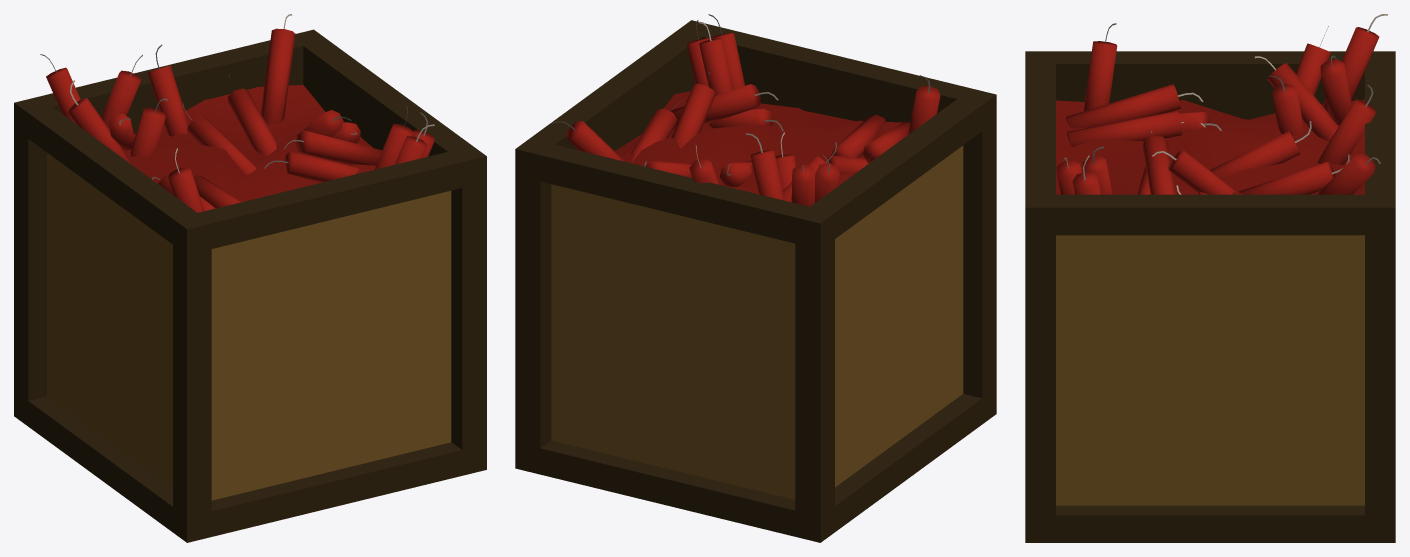
File: CaixaDinamitePrefab.fbx
3 renders of one model, left to right at view 1: azimuth 30°, elevation 25°; view 2: azimuth 150°, elevation 25°; view 3: azimuth 270°, elevation 25°, orthographic. The views are drawn at different scales.
Visible parts, largest first — view 1: Caixa_Dinamite, Dinamite.003, Dinamite.014, Dinamite.020, Dinamite.019, Dinamite.013, Dinamite.004, Dinamite.021, Dinamite.010, Dinamite.005, Dinamite.015, Dinamite.002 (+5 smaller); view 2: Caixa_Dinamite, Dinamite.012, Dinamite.014, Dinamite.009, Dinamite.005, Dinamite.018, Dinamite.003, Dinamite.011, Dinamite.015, Dinamite.002, Dinamite.013, Dinamite.016 (+4 smaller); view 3: Caixa_Dinamite, Dinamite.016, Dinamite.018, Dinamite.021, Dinamite.020, Dinamite.006, Dinamite.019, Dinamite.015, Dinamite.012, Dinamite.002, Dinamite.014, Dinamite.005 (+7 smaller).
Part boxes in pixels (left/top/right/bottom): Caixa_Dinamite: left=14, top=29, right=486, bottom=542; Dinamite.003: left=260, top=14, right=295, bottom=125; Dinamite.014: left=284, top=130, right=382, bottom=165; Dinamite.020: left=147, top=44, right=188, bottom=136; Dinamite.019: left=227, top=75, right=276, bottom=156; Dinamite.013: left=264, top=151, right=359, bottom=182; Dinamite.004: left=68, top=80, right=130, bottom=163; Dinamite.021: left=183, top=103, right=256, bottom=175; Dinamite.010: left=130, top=98, right=167, bottom=157; Dinamite.005: left=101, top=54, right=142, bottom=129; Dinamite.015: left=168, top=148, right=204, bottom=212; Dinamite.002: left=40, top=54, right=80, bottom=123; Caixa_Dinamite: left=515, top=20, right=996, bottom=542; Dinamite.012: left=671, top=72, right=715, bottom=148; Dinamite.014: left=670, top=84, right=778, bottom=131; Dinamite.009: left=698, top=21, right=733, bottom=95; Dinamite.005: left=745, top=133, right=784, bottom=200; Dinamite.018: left=831, top=114, right=886, bottom=157; Dinamite.003: left=551, top=121, right=625, bottom=161; Dinamite.011: left=630, top=101, right=680, bottom=163; Dinamite.015: left=908, top=75, right=940, bottom=134; Dinamite.002: left=791, top=164, right=815, bottom=206; Dinamite.013: left=709, top=108, right=783, bottom=131; Dinamite.016: left=863, top=121, right=909, bottom=165; Caixa_Dinamite: left=1025, top=51, right=1395, bottom=542; Dinamite.016: left=1066, top=84, right=1203, bottom=128; Dinamite.018: left=1067, top=111, right=1205, bottom=147; Dinamite.021: left=1210, top=121, right=1311, bottom=180; Dinamite.020: left=1317, top=84, right=1376, bottom=164; Dinamite.006: left=1255, top=56, right=1338, bottom=141; Dinamite.019: left=1238, top=154, right=1349, bottom=194; Dinamite.015: left=1083, top=23, right=1117, bottom=110; Dinamite.012: left=1152, top=149, right=1239, bottom=194; Dinamite.002: left=1322, top=14, right=1387, bottom=112; Dinamite.014: left=1142, top=130, right=1176, bottom=194; Dinamite.005: left=1320, top=55, right=1352, bottom=125.
Bounding box in the file's own units: 30.72 × 35.27 × 30.72.
